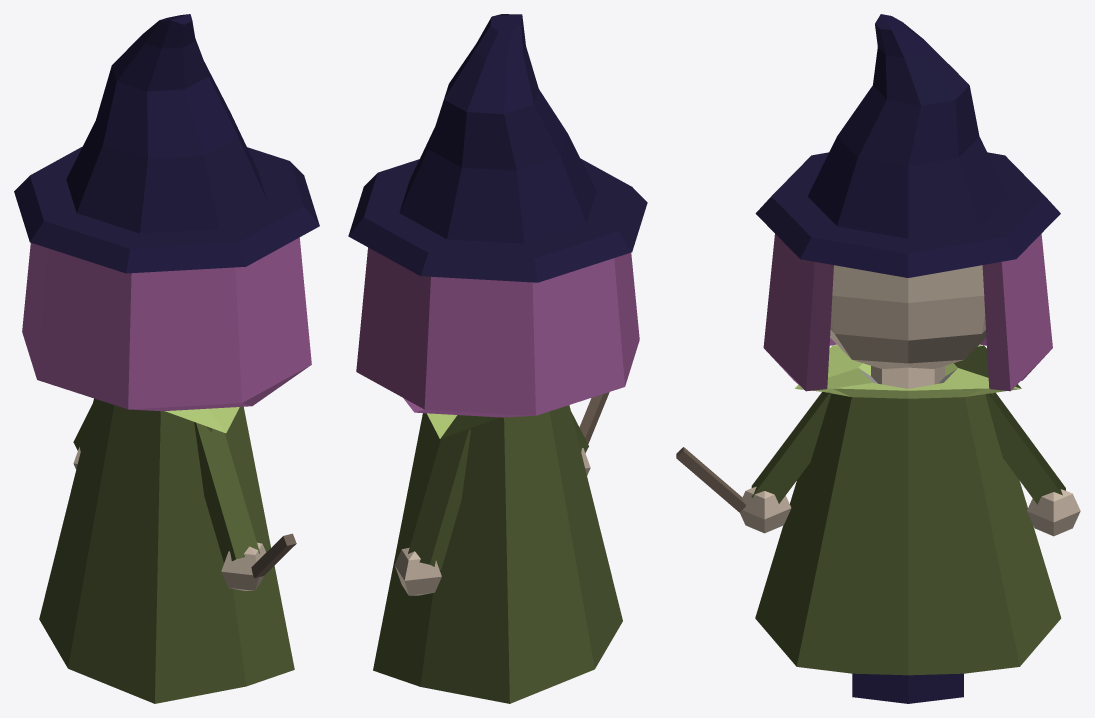
Rendered from witch.fbx.
3 views of the same model, side by side, from view 1: azimuth 30°, elevation 25°; view 2: azimuth 150°, elevation 25°; view 3: azimuth 270°, elevation 25° (orthographic). The views are drawn at different scales.
Visible parts, largest first — view 1: pCube4; view 2: pCube4; view 3: pCube4.
Part boxes in pixels (box(x1,y1,x2,y2)): pCube4: box(14, 14, 319, 703); pCube4: box(348, 14, 647, 703); pCube4: box(676, 14, 1080, 703).
Size of the model in its own units: 3.74 by 8.61 by 4.94.
